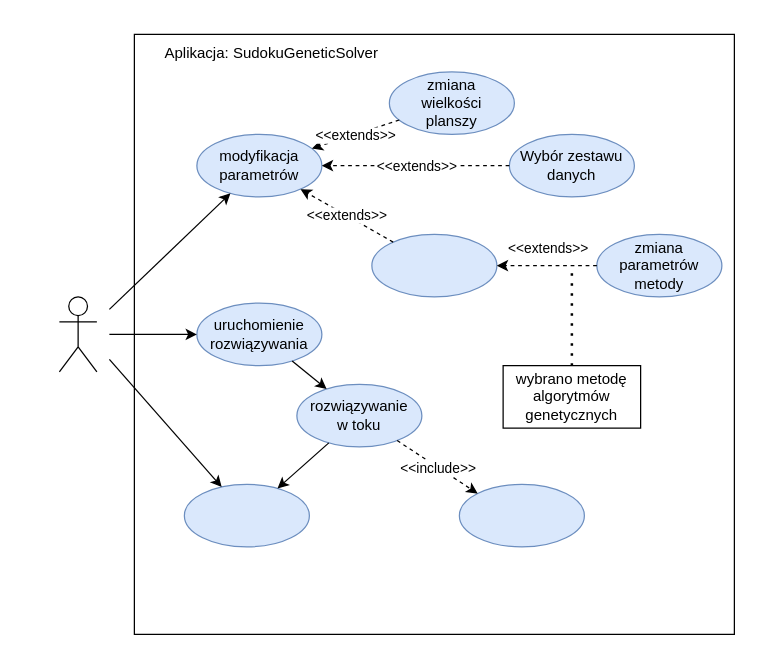
This 769x669 diagram has some shape labels left out. The shapes that lost their labels are listed below. From the top down, each one's centre as x and y in pixels, then its label:
the point at 434,265: zmiana metody rozwiązywania
the point at 77,334: Użytkownika aplikacji
the point at 246,515: zatrzymanie rozwiązywania
the point at 521,515: prezentacja wyników pośrednich
